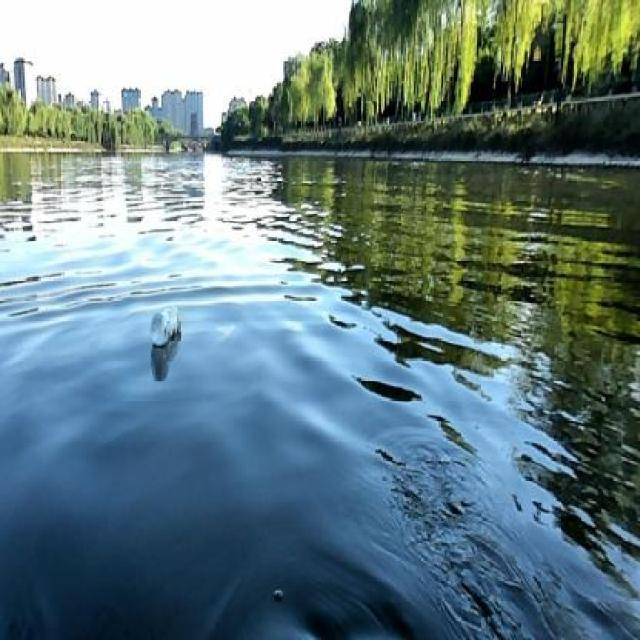Bottle: (142, 302, 188, 353)
